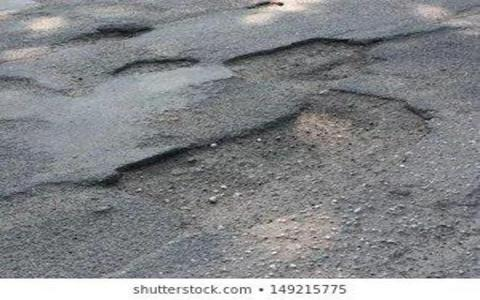patchy roads: (44, 24, 402, 241)
